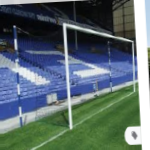goals: (32, 21, 136, 131)
